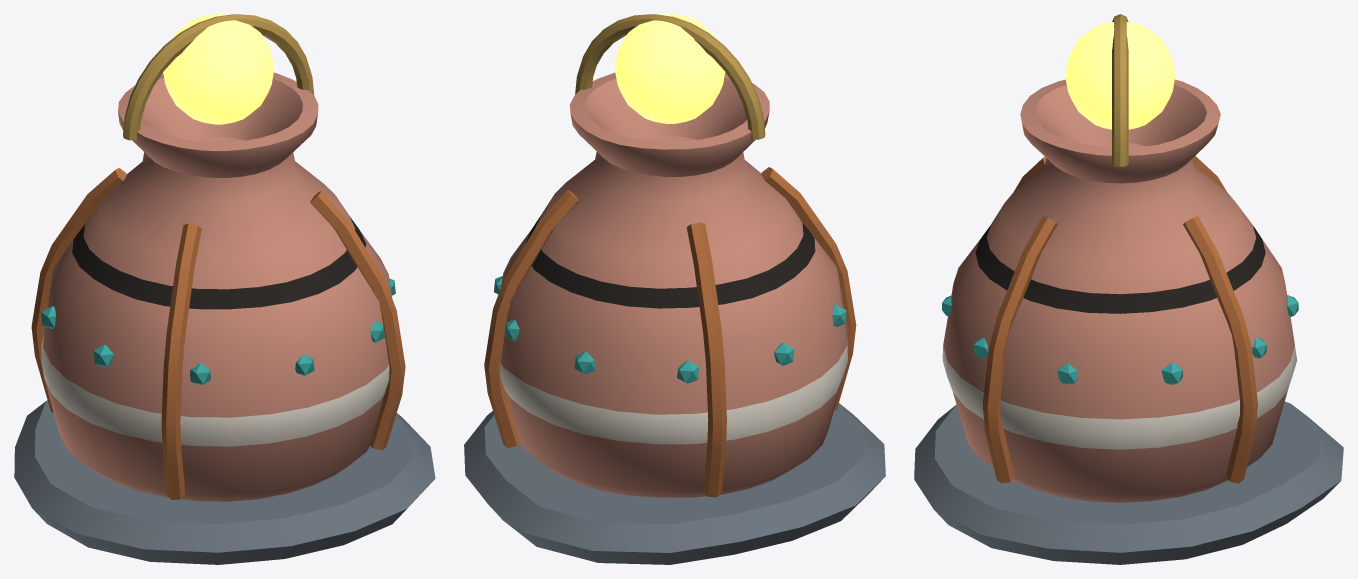
Rendered from deco_lantern_orb_gourd.fbx.
3 views of the same model, side by side, from view 1: azimuth 30°, elevation 25°; view 2: azimuth 150°, elevation 25°; view 3: azimuth 270°, elevation 25° (orthographic).
Visible parts, largest first — view 1: LanternOrb_Gourd_Body, LanternOrb_Gourd_Plinth, LanternOrb_Gourd_Ribs, LanternOrb_Gourd_Orb, LanternOrb_Gourd_Hoop; view 2: LanternOrb_Gourd_Body, LanternOrb_Gourd_Plinth, LanternOrb_Gourd_Ribs, LanternOrb_Gourd_Orb, LanternOrb_Gourd_Hoop; view 3: LanternOrb_Gourd_Body, LanternOrb_Gourd_Plinth, LanternOrb_Gourd_Ribs, LanternOrb_Gourd_Orb, LanternOrb_Gourd_Hoop.
Part boxes in pixels (left/top/right/bottom): LanternOrb_Gourd_Body: left=41, top=72, right=395, bottom=501; LanternOrb_Gourd_Plinth: left=14, top=400, right=435, bottom=564; LanternOrb_Gourd_Ribs: left=31, top=168, right=405, bottom=499; LanternOrb_Gourd_Orb: left=163, top=14, right=274, bottom=124; LanternOrb_Gourd_Hoop: left=123, top=14, right=314, bottom=140; LanternOrb_Gourd_Body: left=494, top=72, right=847, bottom=497; LanternOrb_Gourd_Plinth: left=464, top=403, right=885, bottom=564; LanternOrb_Gourd_Ribs: left=484, top=167, right=856, bottom=497; LanternOrb_Gourd_Orb: left=614, top=14, right=725, bottom=123; LanternOrb_Gourd_Hoop: left=575, top=14, right=765, bottom=139; LanternOrb_Gourd_Body: left=942, top=79, right=1298, bottom=502; LanternOrb_Gourd_Plinth: left=914, top=401, right=1343, bottom=564; LanternOrb_Gourd_Ribs: left=982, top=156, right=1257, bottom=483; LanternOrb_Gourd_Orb: left=1065, top=22, right=1175, bottom=129; LanternOrb_Gourd_Hoop: left=1112, top=14, right=1128, bottom=166.
Size of the model in its own units: 99.65 by 120 by 101.
